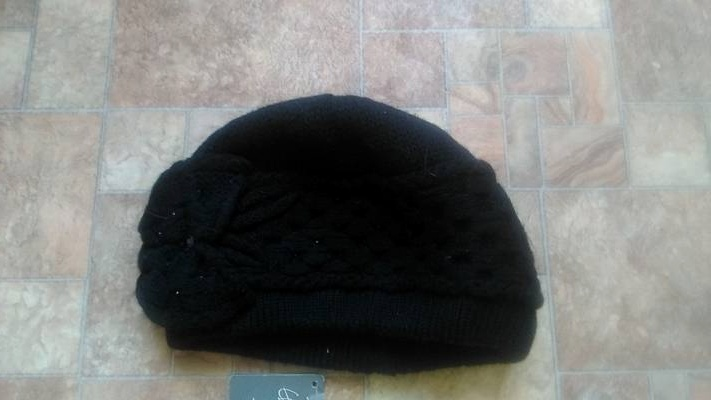Hat: (134, 73, 574, 389)
